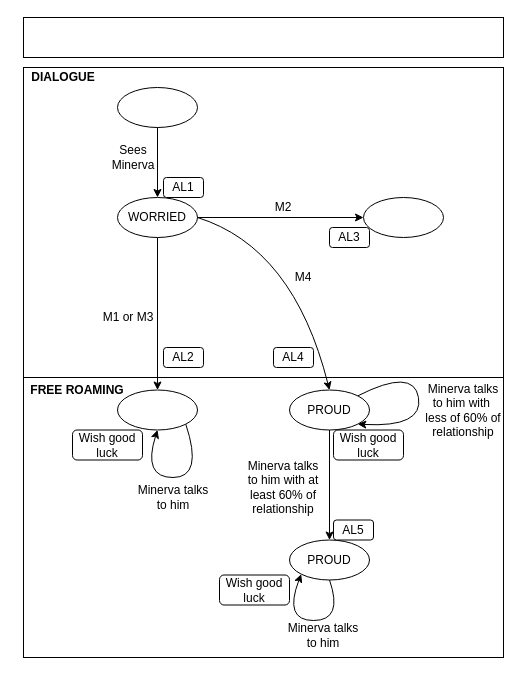
Some shapes in this 521 by 675 pixel diagram are drawn without their labels. The box of each missing label's shape, as (x1, y1, x2, y2) in pixels:
BEFORE THE BEGINNING OF THE SECOND CHALLENGE: (22, 16, 504, 58)
QUIET: (116, 86, 198, 128)
REASSURED: (116, 389, 198, 430)
REGRETTED: (362, 196, 444, 238)
